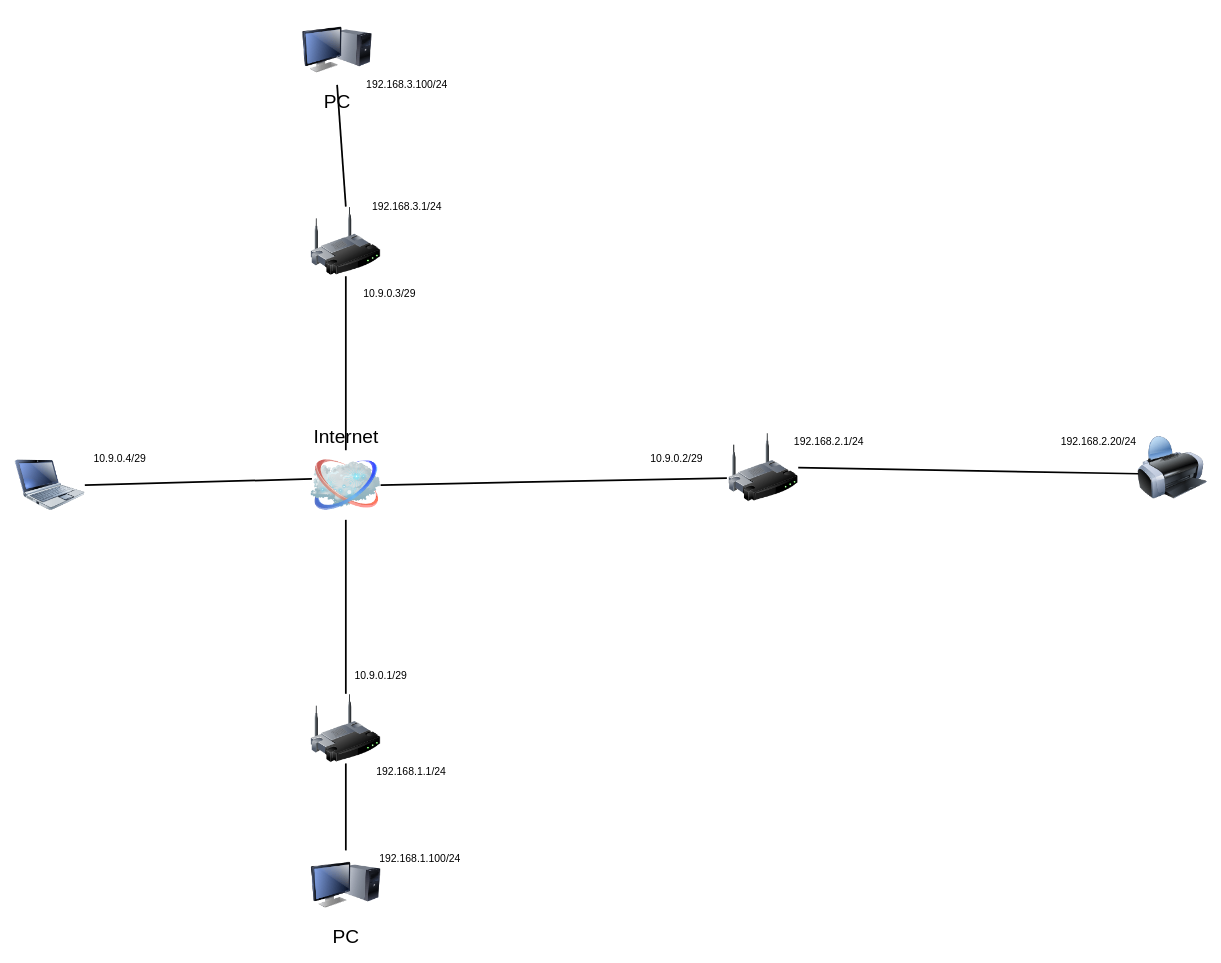
The diagram is 1221 pixels wide and 963 high, and some of its shapes have lost their labels. Here are the shapes that lost their labels. From the top down, the centre of each, then its label:
At (49,484): "Laptop".
At (1172,467): "Printer".
